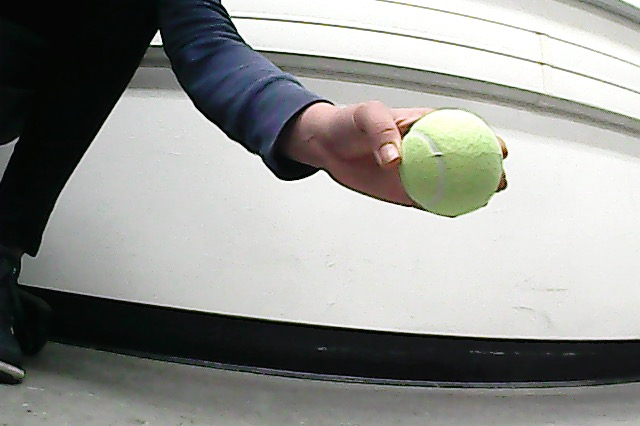ball: (395, 107, 504, 220)
